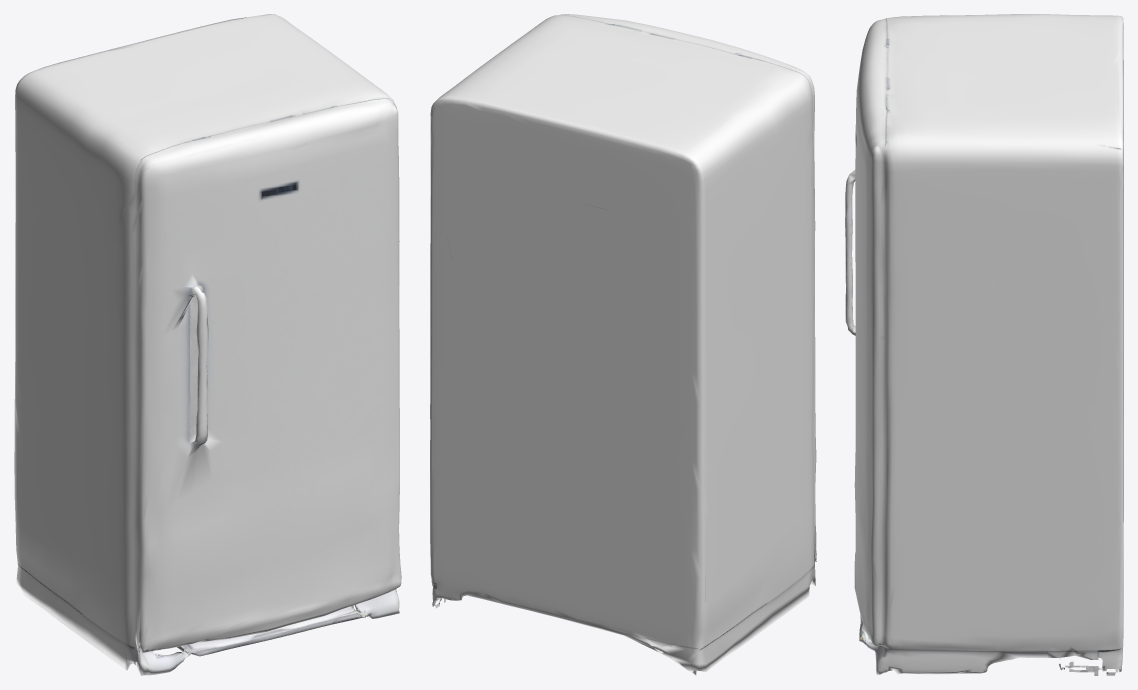
Rendered from refrigerator.glb.
3 renders of one model, left to right at view 1: azimuth 30°, elevation 25°; view 2: azimuth 150°, elevation 25°; view 3: azimuth 270°, elevation 25°, orthographic. The views are drawn at different scales.
Bounding box in the file's own units: 1.1 × 2 × 0.9431.
Materials: 1 (1 with a texture image).
